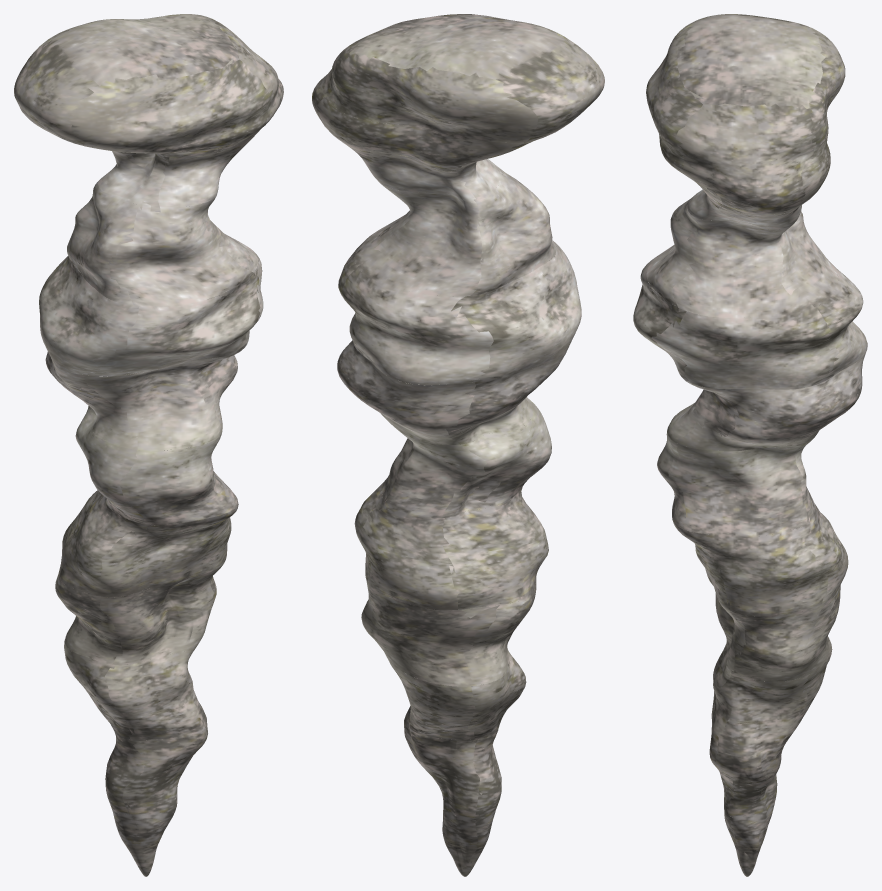
The model's file is Stag4.fbx.
The picture shows the model from 3 angles, left to right: view 1: azimuth 30°, elevation 25°; view 2: azimuth 150°, elevation 25°; view 3: azimuth 270°, elevation 25°; orthographic projection. The views are drawn at different scales.
Parts seen in each view (by area): view 1: Cube.002; view 2: Cube.002; view 3: Cube.002.
Boxes of the visible parts, box(x1,y1,x2,y2) form: Cube.002: box(14, 14, 283, 876); Cube.002: box(312, 14, 604, 876); Cube.002: box(633, 14, 867, 876).
Bounding box in the file's own units: 440 × 1358 × 347.
Materials: 1 (1 with a texture image).
